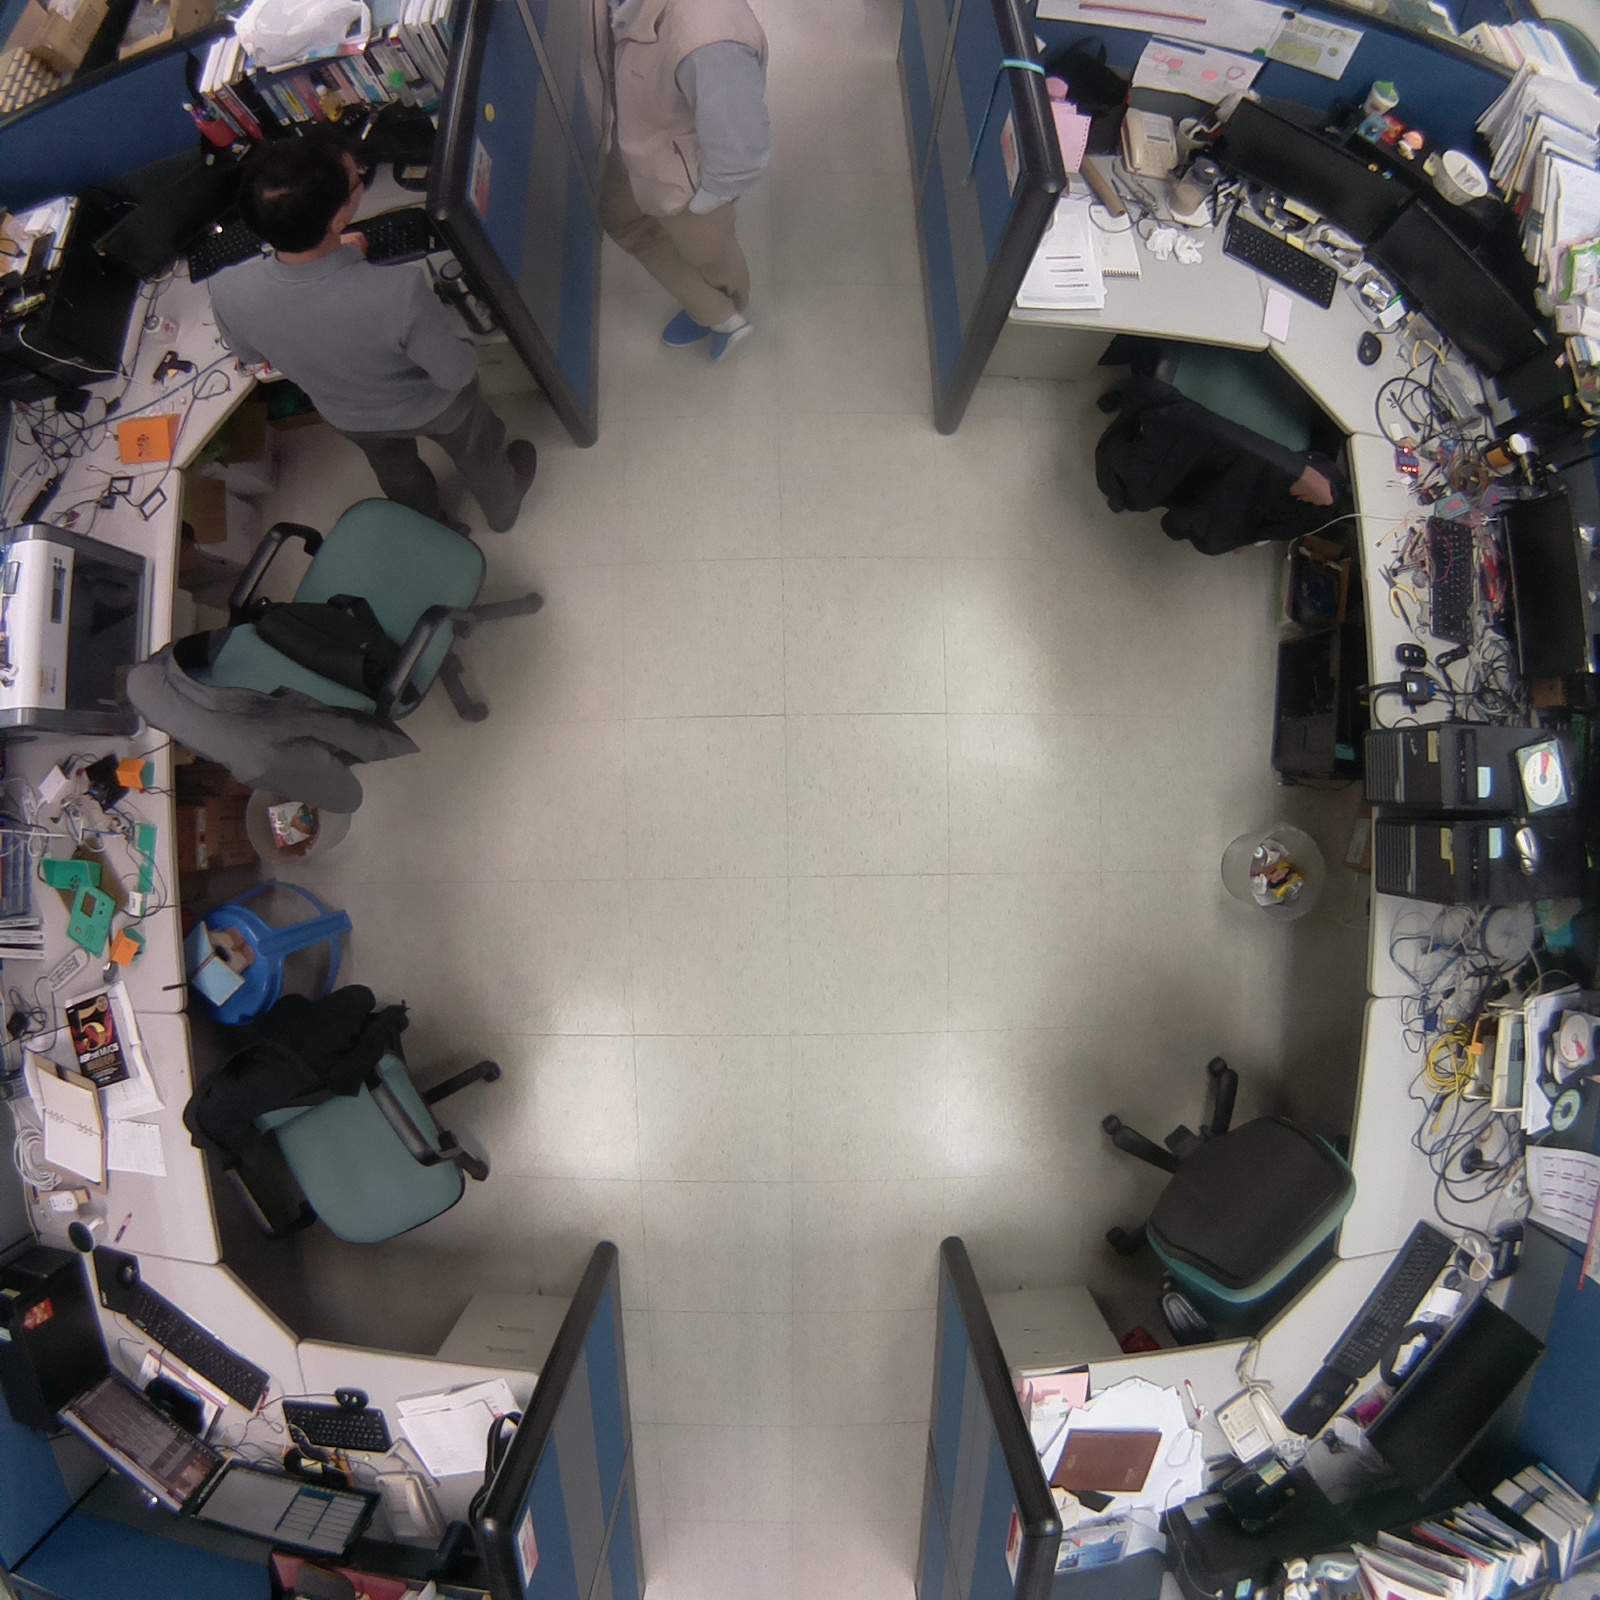chair: (99, 481, 573, 845), (170, 960, 527, 1278), (1065, 1040, 1368, 1375), (1078, 317, 1363, 573)
head: (229, 134, 374, 251)
standing: (199, 143, 544, 543), (577, 1, 791, 369)
